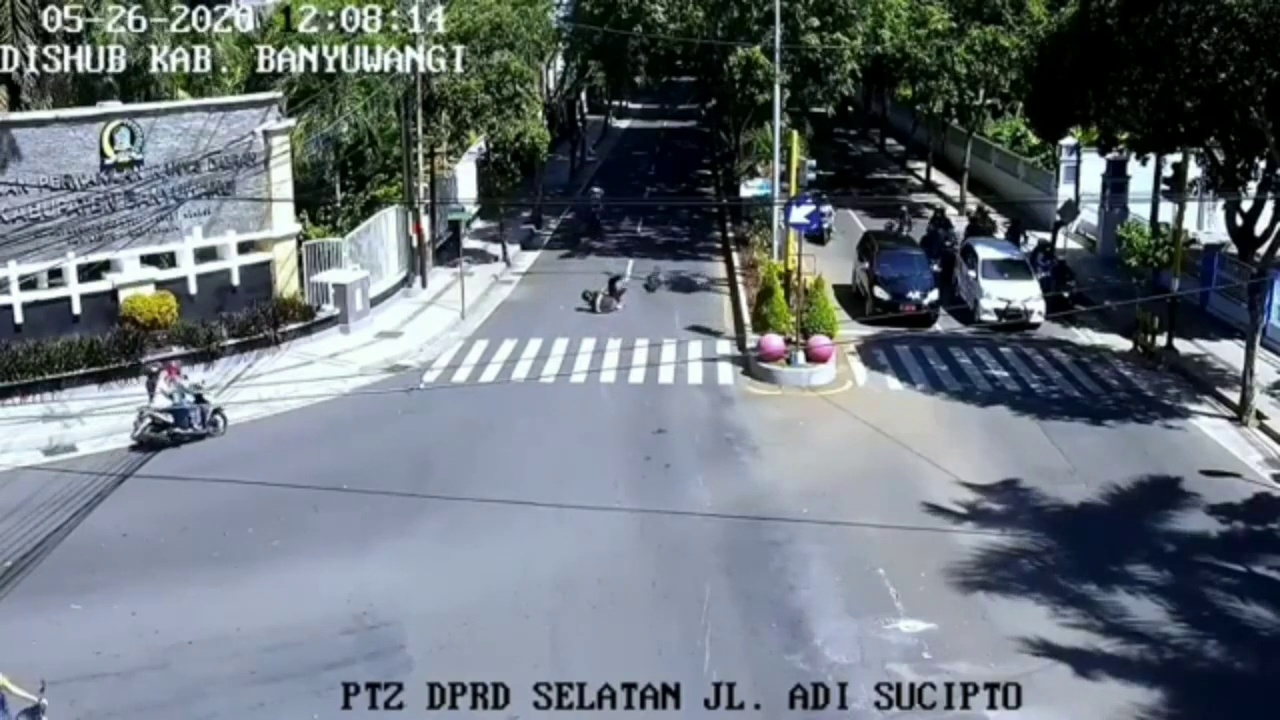car: (853, 226, 940, 330), (959, 232, 1046, 332)
motorbike: (137, 355, 232, 447), (813, 194, 835, 249)
